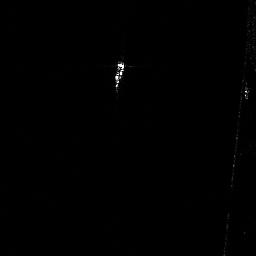ship: (114, 61, 126, 87)
